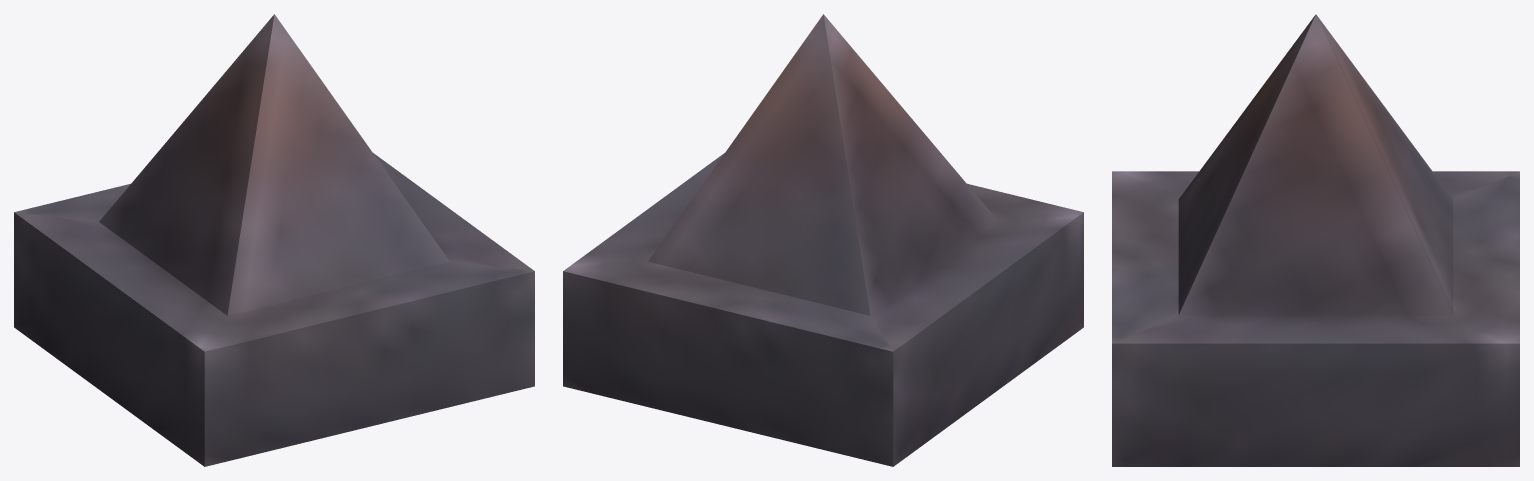
The model's file is dungeon_3.FBX.
3 renders of one model, left to right at view 1: azimuth 30°, elevation 25°; view 2: azimuth 150°, elevation 25°; view 3: azimuth 270°, elevation 25°, orthographic. The views are drawn at different scales.
Parts seen in each view (by area): view 1: dungeon_3; view 2: dungeon_3; view 3: dungeon_3.
Part boxes in pixels (box(x1,y1,x2,y2)): dungeon_3: box(14, 14, 534, 466); dungeon_3: box(563, 14, 1083, 466); dungeon_3: box(1112, 14, 1519, 466).
Size of the model in its own units: 15 by 14.88 by 15.
